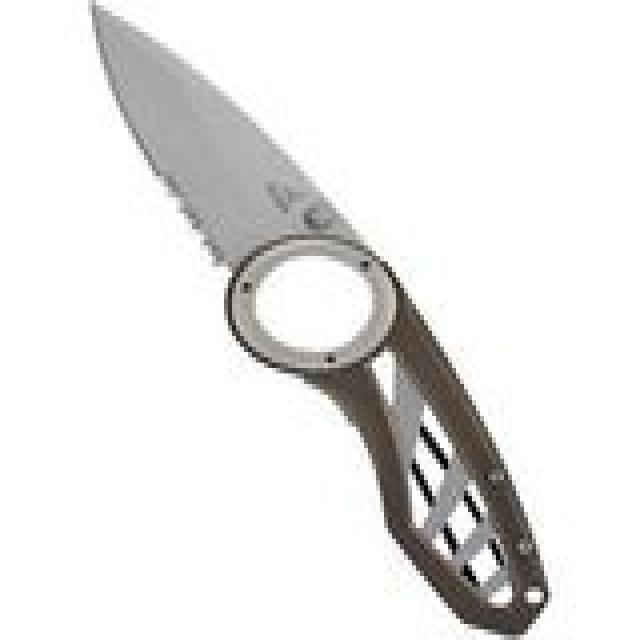Knife: (68, 1, 576, 640)
